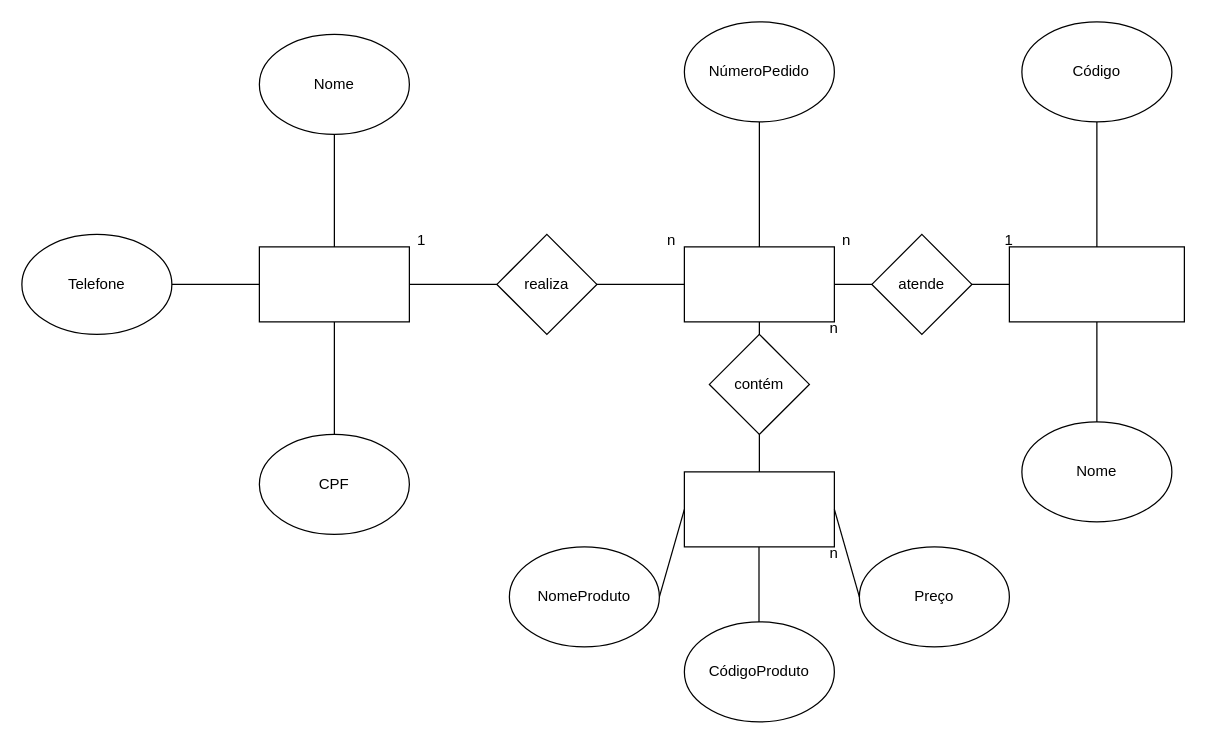
This 1206x744 diagram has some shape labels left out. Each missing label, with the centre of its shape:
"Cliente" goes at point (333, 284).
"Garçom" goes at point (1096, 284).
"Pedido" goes at point (758, 284).
"Produto" goes at point (758, 509).
